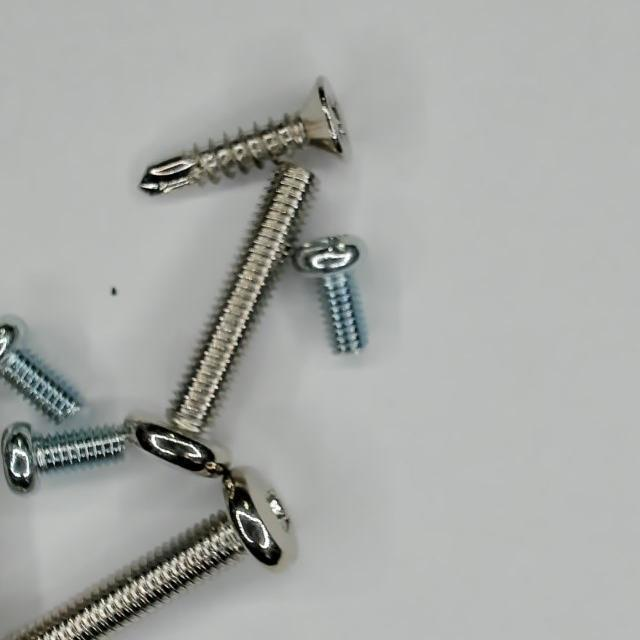Screw: (132, 162, 314, 474), (12, 471, 295, 640), (140, 80, 345, 194), (293, 236, 364, 353)
